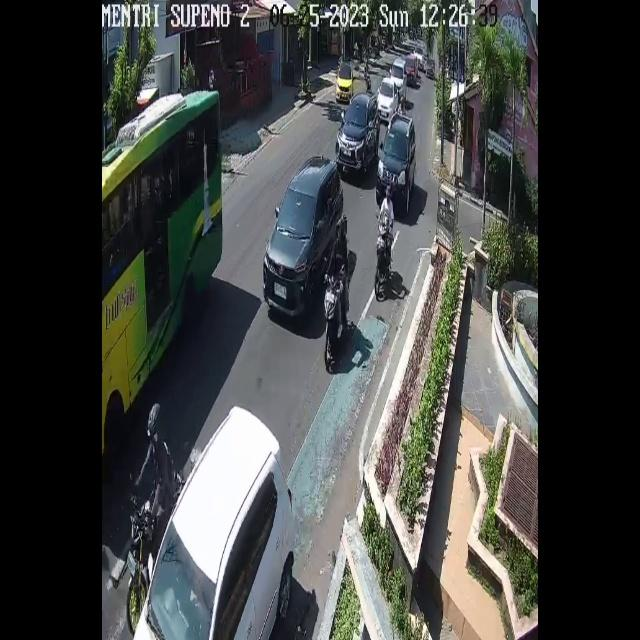bus: (126, 469, 185, 637), (324, 273, 341, 367), (374, 221, 390, 281)
car: (102, 90, 223, 445)
motorcycle: (132, 404, 296, 640), (263, 155, 343, 319), (376, 112, 416, 213), (336, 90, 380, 170), (378, 78, 398, 122), (334, 61, 353, 102), (390, 59, 407, 102), (407, 54, 418, 84), (425, 57, 435, 78)
